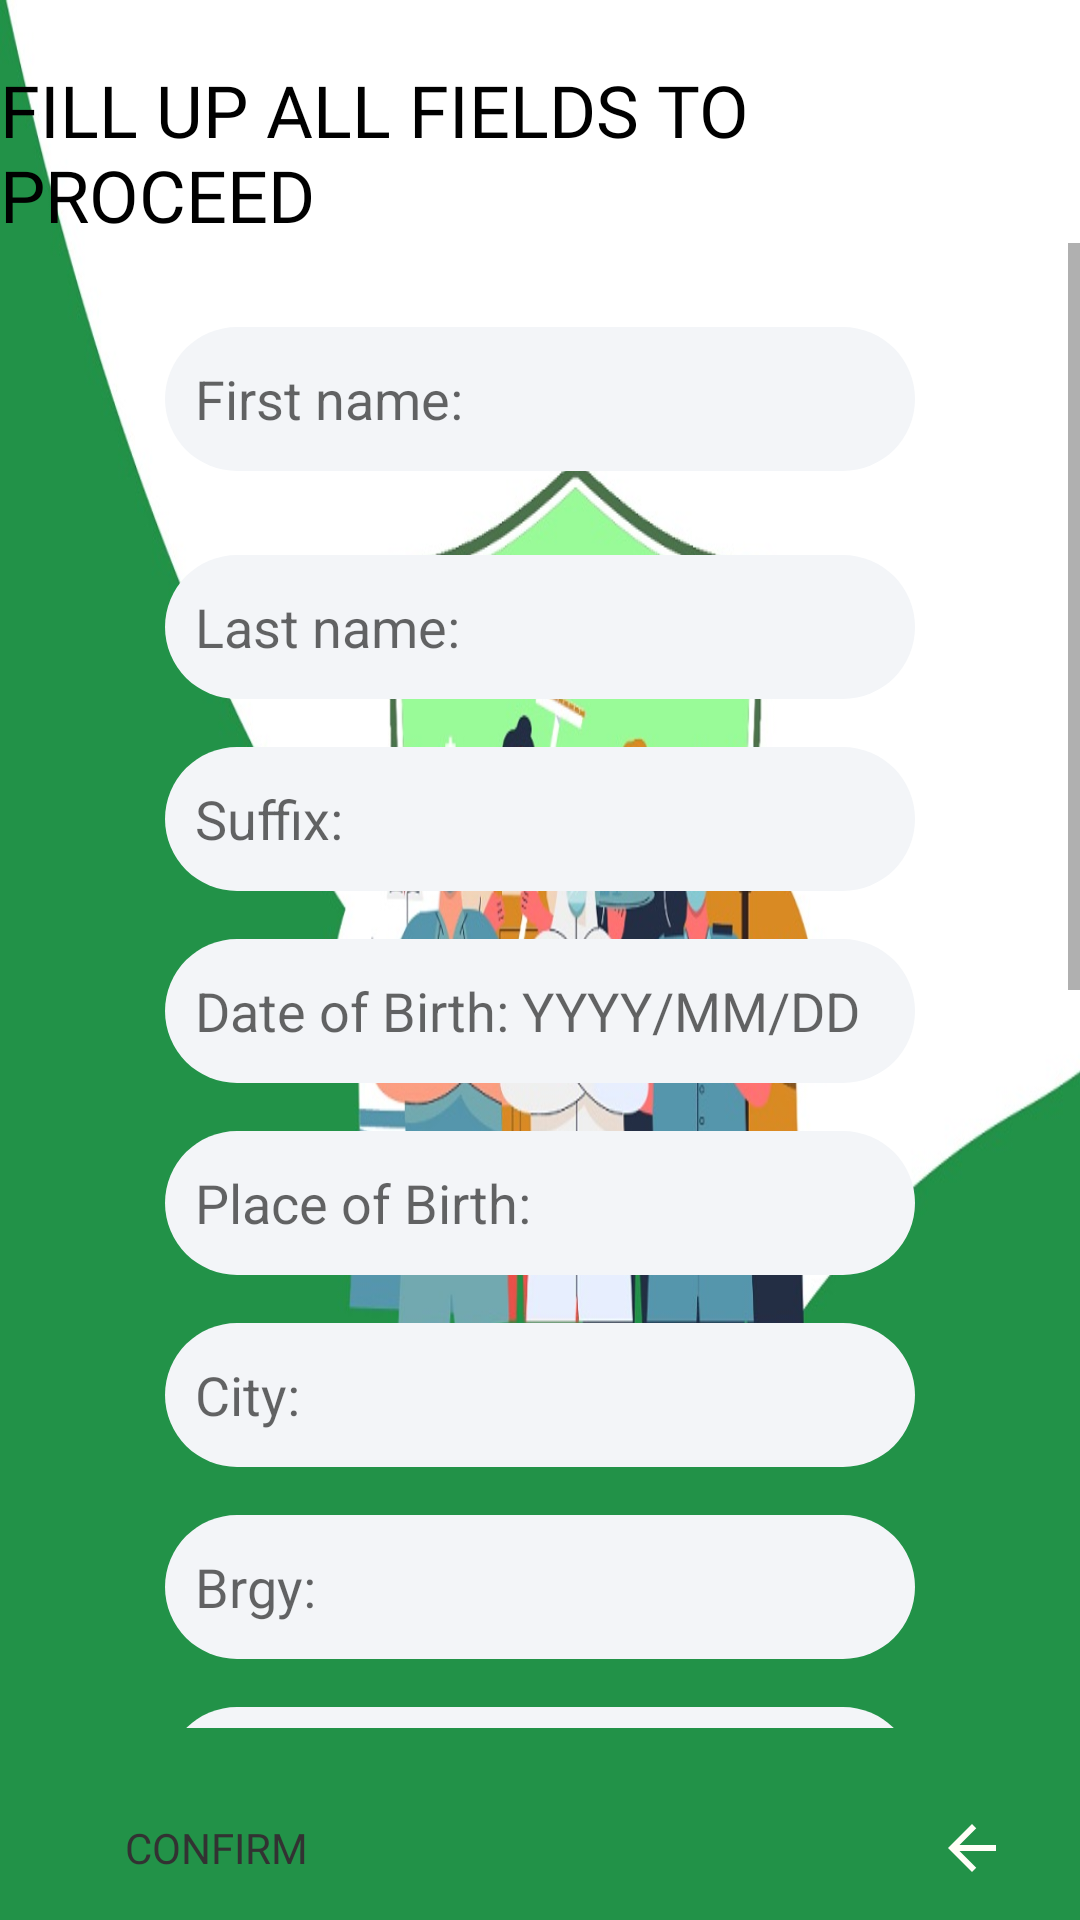

Screen size 1080px×1920px. Icon name, then its center in pixels as point (x, y):
back button: point (972, 1848)
